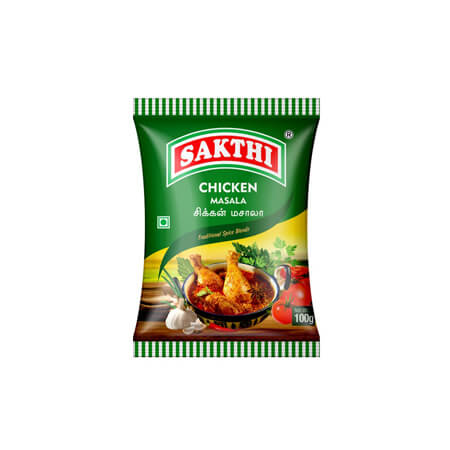VEG: (155, 214, 172, 230)
